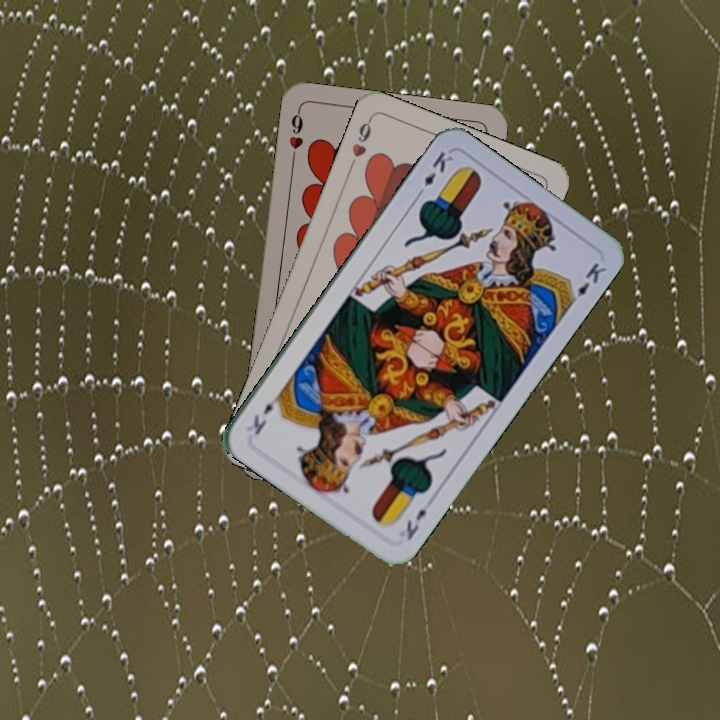EK: (413, 147, 456, 200), (402, 505, 430, 543)
H9: (345, 114, 375, 171), (285, 106, 306, 165)
